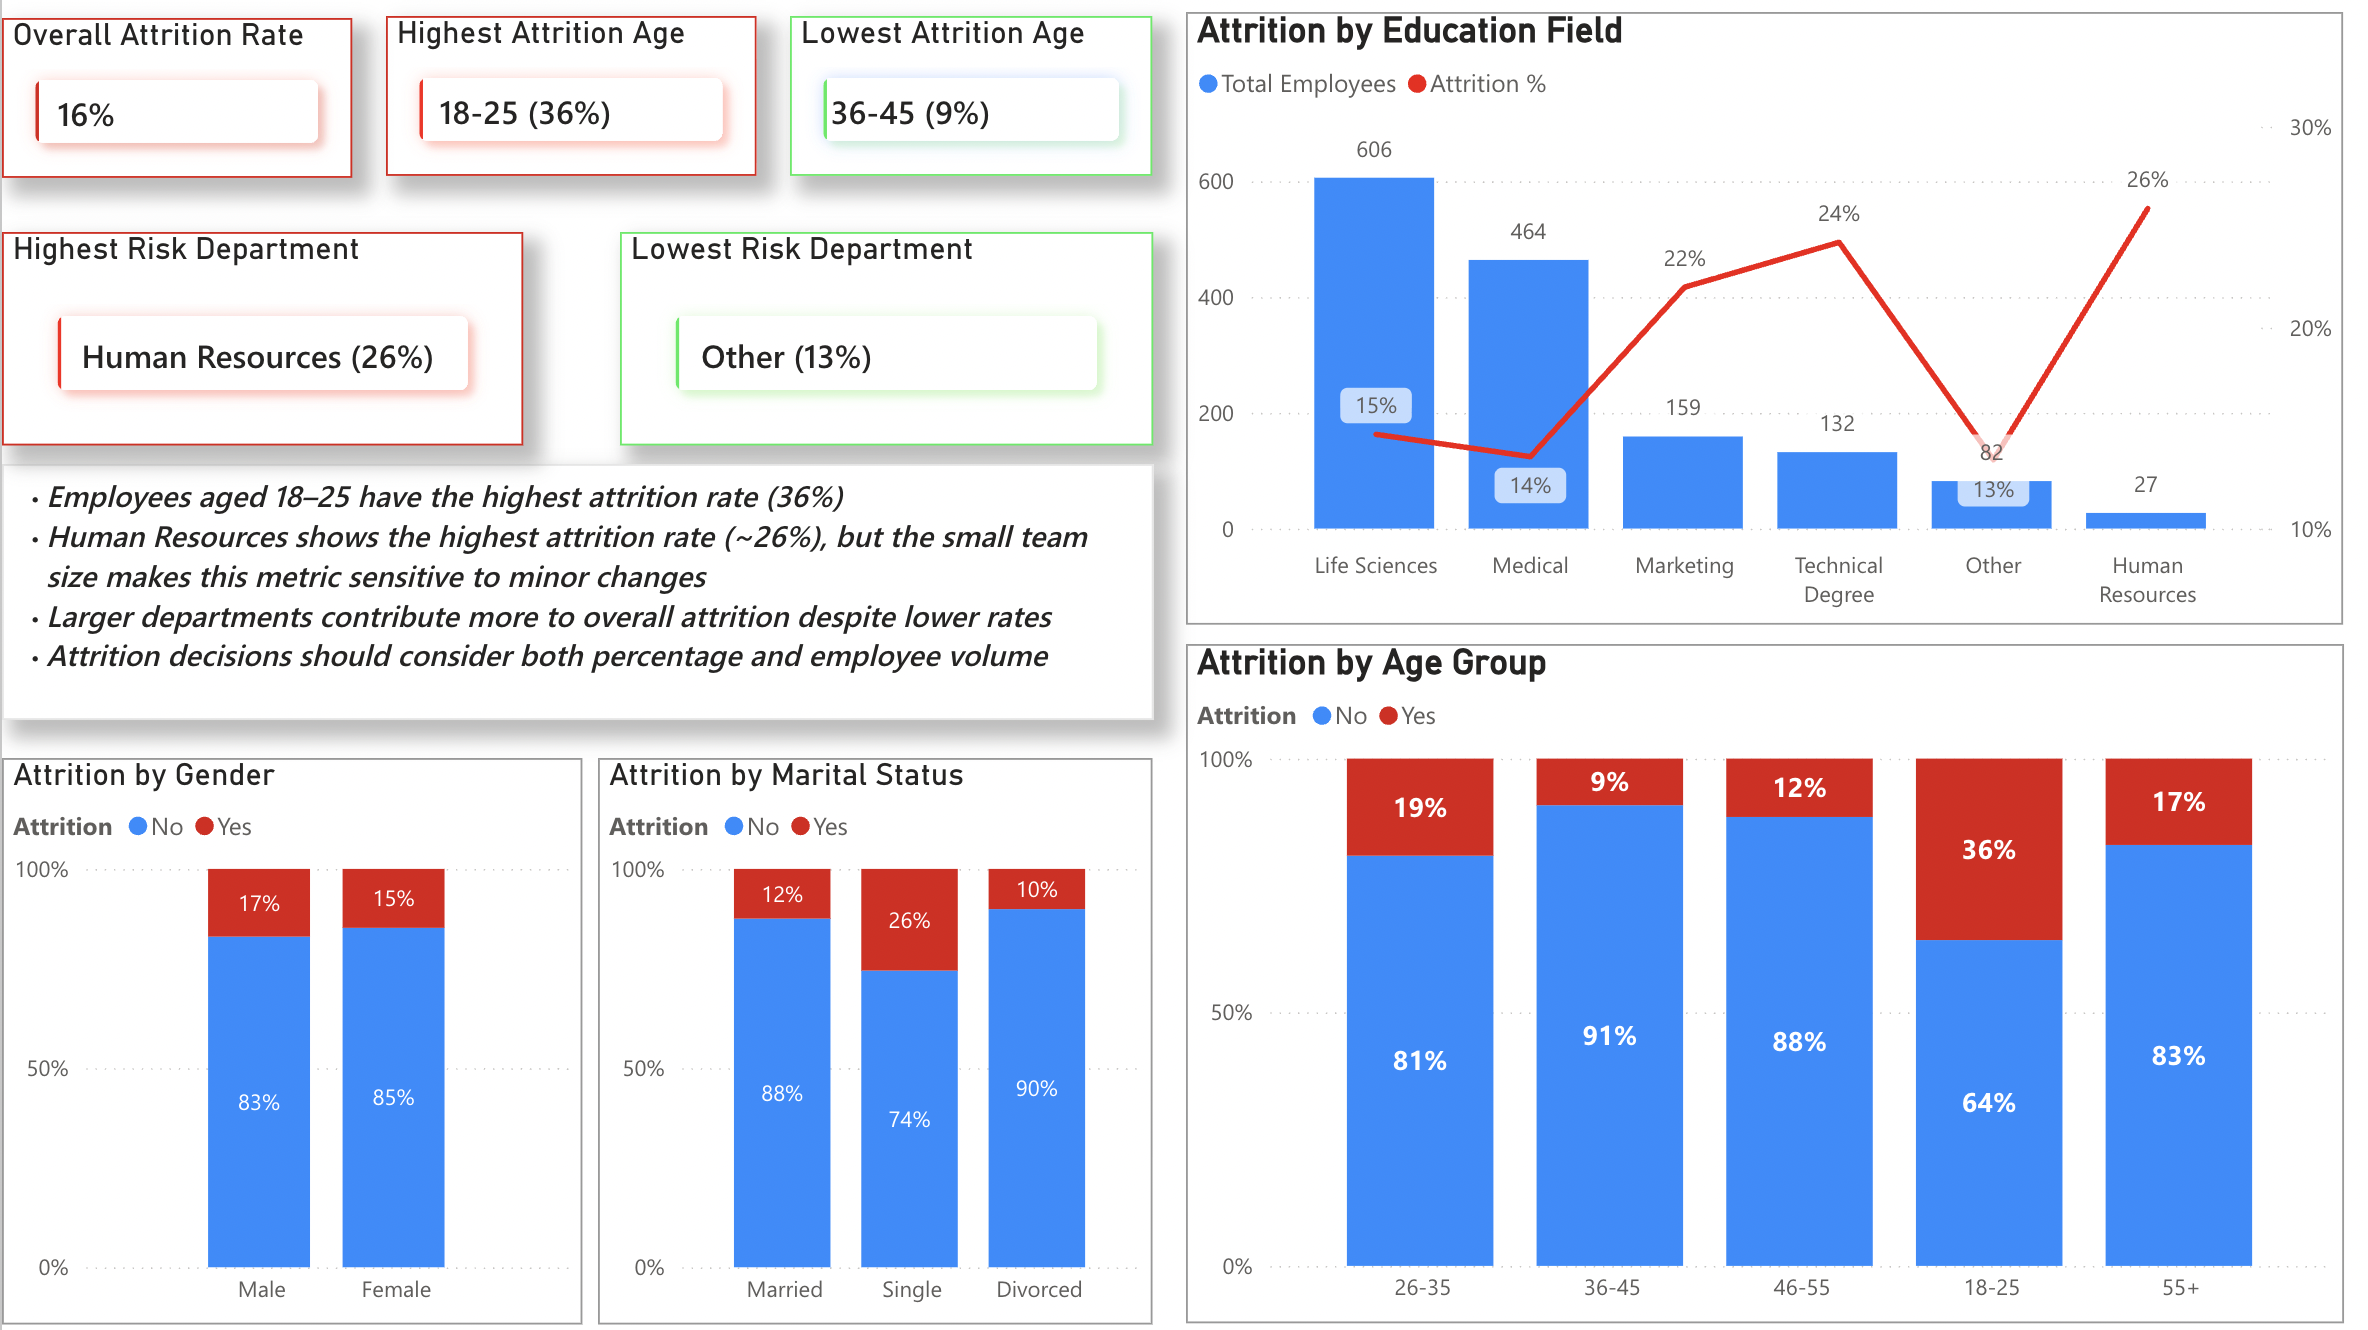

Layout of this report page (visuals, bound fields, positions):
{"tool":"powerbi","page":{"name":"By Demogarphics","canvas":[1280,720],"ordinal":0},"visuals":[{"type":"hundredPercentStackedColumnChart","title":"Attrition by Age Group","fields":{"Category":["Attrition Insight.Age Group"],"Series":["Attrition Insight.Attrition"],"Y":["CountNonNull(Attrition Insight.Attrition)"]},"box":[640.6,352.1,626.7,367.3],"z":0},{"type":"hundredPercentStackedColumnChart","title":"Attrition by Education Field","fields":{"Category":["Attrition Insight.EducationField"],"Series":["Attrition Insight.Attrition"],"Y":["CountNonNull(Attrition Insight.Attrition)"]},"box":[640.6,10,626.1,331.4],"z":1000},{"type":"hundredPercentStackedColumnChart","title":"Attrition by Marital Status","fields":{"Category":["Attrition Insight.MaritalStatus"],"Series":["Attrition Insight.Attrition"],"Y":["CountNonNull(Attrition Insight.Attrition)"]},"box":[322.9,413.1,300,306.3],"z":2000},{"type":"cardVisual","title":"Highest Attrition Age","fields":{"Data":["Attrition Insight.Highest Attrition Age Group"]},"box":[207.2,12.2,200.6,86.4],"z":3000},{"type":"cardVisual","title":"Lowest Risk Department","fields":{"Data":["Attrition Insight.Lowest Risk Department"]},"box":[334.3,128.4,288.5,115.7],"z":4000},{"type":"cardVisual","title":"Lowest Attrition Age","fields":{"Data":["Attrition Insight.Lowest Attrition Age Group"]},"box":[426.7,12.2,196.2,86.4],"z":5000},{"type":"hundredPercentStackedColumnChart","title":"Attrition by Gender","fields":{"Category":["Attrition Insight.Gender"],"Series":["Attrition Insight.Attrition"],"Y":["CountNonNull(Attrition Insight.Attrition)"]},"box":[0,413.1,314,306.3],"z":6000},{"type":"textbox","box":[0,278.4,622.8,114.4],"z":7000},{"type":"cardVisual","title":"Overall Attrition Rate","fields":{"Data":["Attrition Insight.Overall Attrition %"]},"box":[0,12.7,189.4,86.4],"z":8000},{"type":"cardVisual","title":"Highest Risk Department","fields":{"Data":["Attrition Insight.Highest Risk Department"]},"box":[0,128.4,282.2,115.7],"z":9000}]}

Visuals, with their boxes in screenshot pixels (x1, y1, x2, y2), scaled from the page's 1280x720 canvas onto the 2368x1330 screenshot:
"Attrition by Age Group" hundredPercentStackedColumnChart: 1185,650,2345,1329
"Attrition by Education Field" hundredPercentStackedColumnChart: 1185,18,2343,631
"Attrition by Marital Status" hundredPercentStackedColumnChart: 597,763,1152,1329
"Highest Attrition Age" cardVisual: 383,23,754,182
"Lowest Risk Department" cardVisual: 618,237,1152,451
"Lowest Attrition Age" cardVisual: 789,23,1152,182
"Attrition by Gender" hundredPercentStackedColumnChart: 0,763,581,1329
textbox: 0,514,1152,726
"Overall Attrition Rate" cardVisual: 0,23,350,183
"Highest Risk Department" cardVisual: 0,237,522,451
